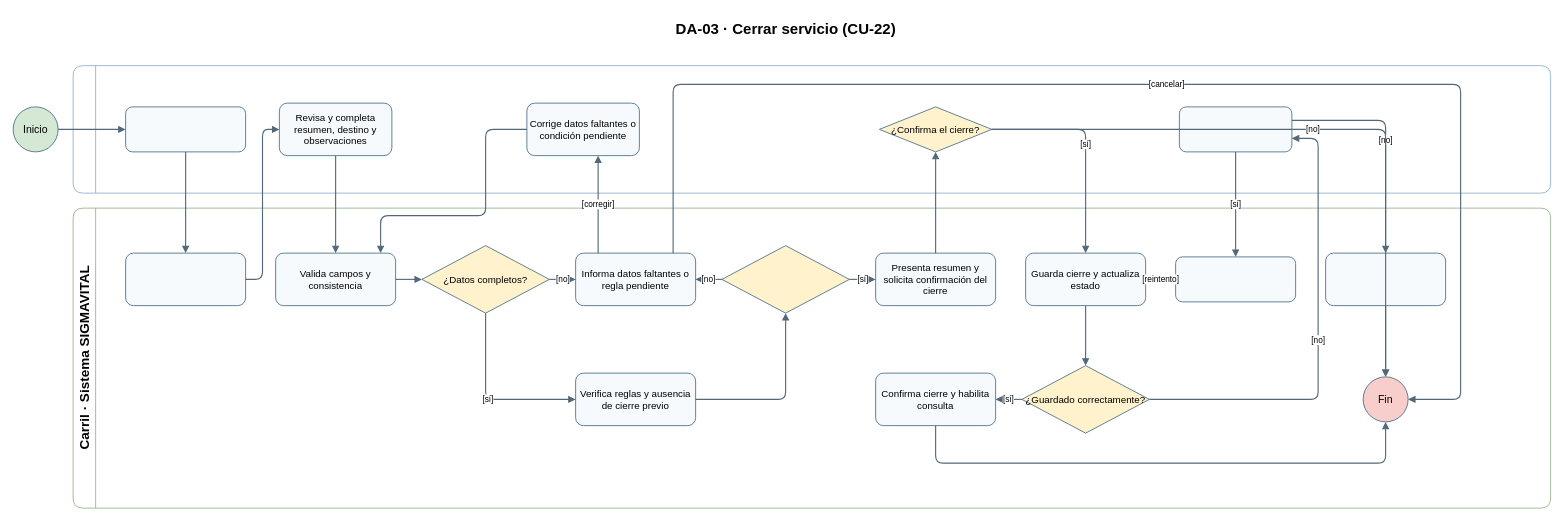
This 1564x521 diagram has some shape labels left out. The shapes that lost their labels are listed below. From the top down, each one's box as (x1, y1, x2, y2) in pixels, then its label:
(125, 106, 246, 152): Selecciona servicio que desea cerrar
(72, 65, 1551, 193): Carril · Coordinador operativo
(1179, 106, 1292, 152): Decide si reintenta el guardado
(125, 252, 246, 306): Consulta servicio, asignaciones e intervenciones
(721, 245, 849, 313): ¿Se permite cerrar?
(1175, 256, 1296, 302): Reintenta guardado
(1325, 252, 1446, 306): Conserva estado previo e informa error
